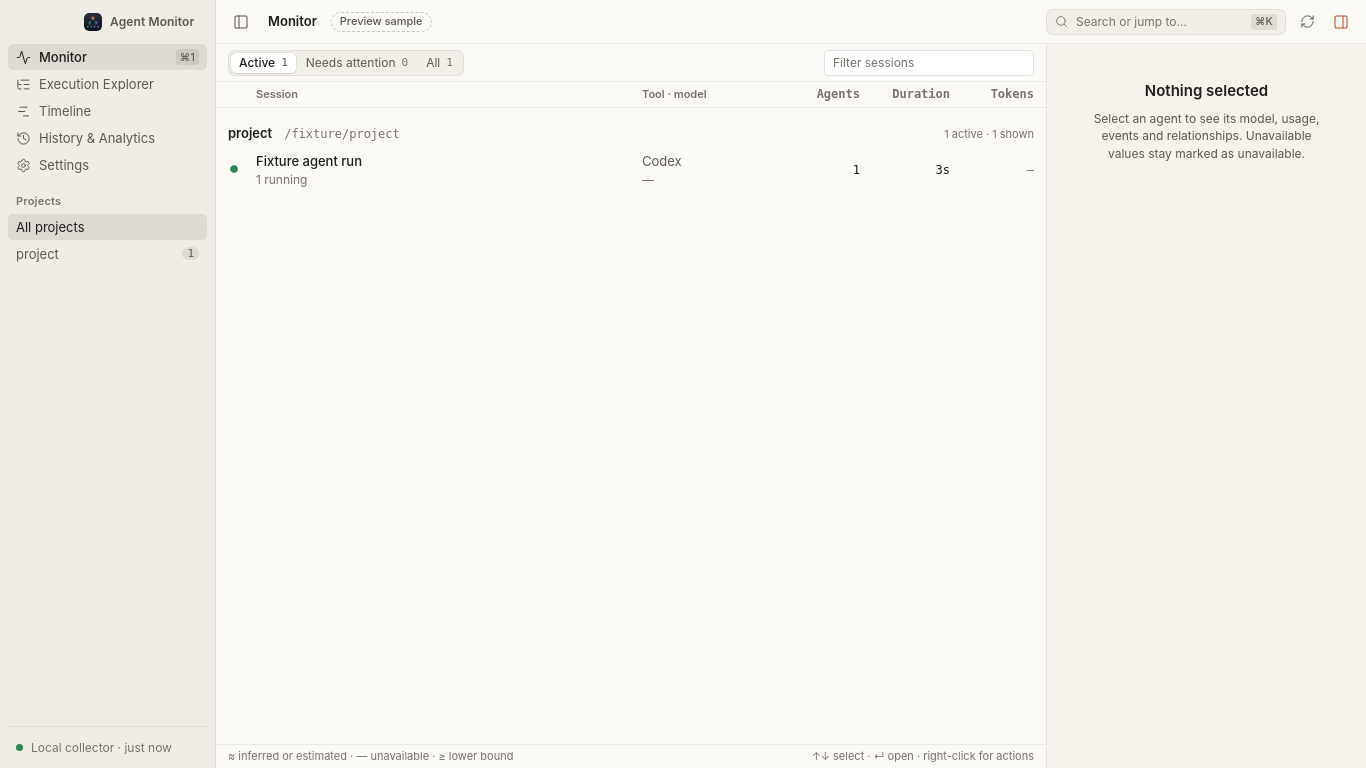
Test: App (navigation) › shows History once stored sessions exist
Check: the text "Fixture agent run" is shown, box [256,153,362,169]
Click the button "History & Analytics" at (108, 138), box [8,125,207,151]
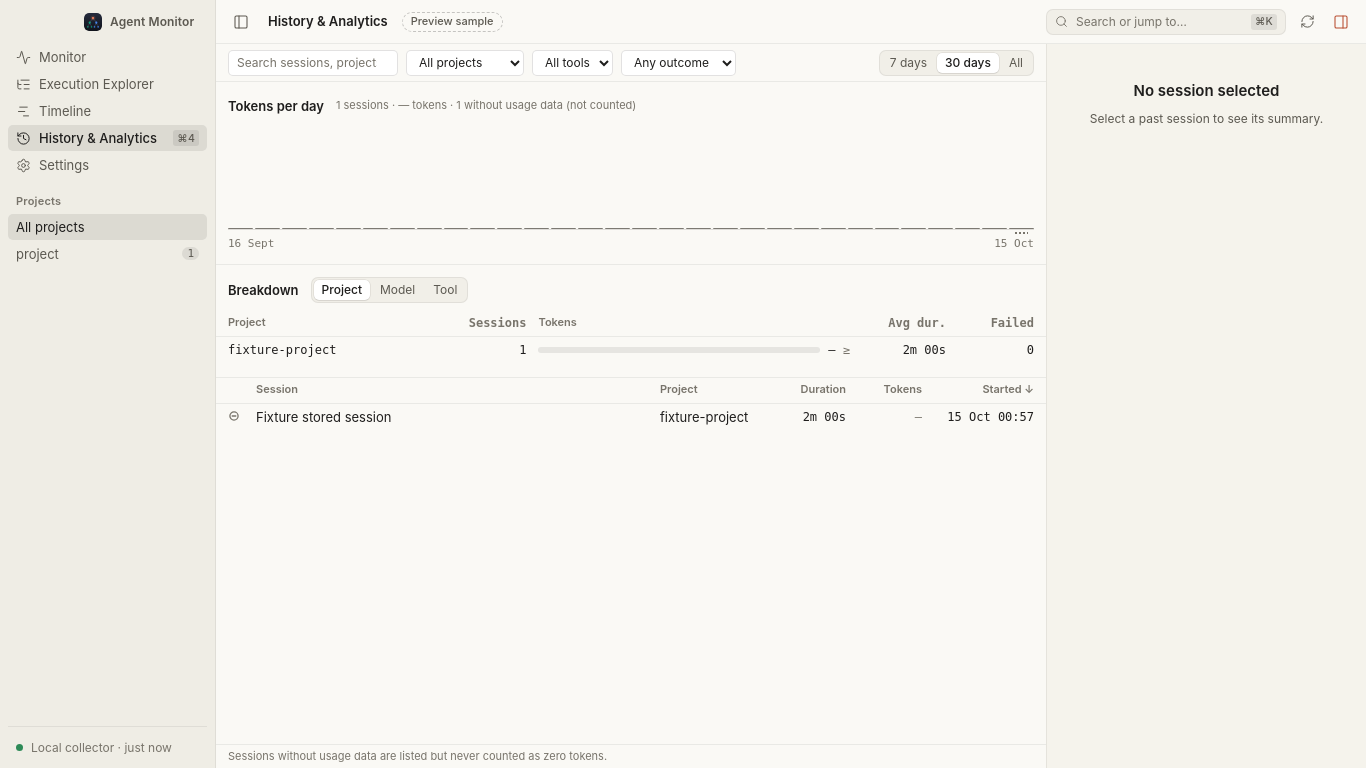
Check: the text "Fixture stored session" is shown, box [256,409,392,425]
